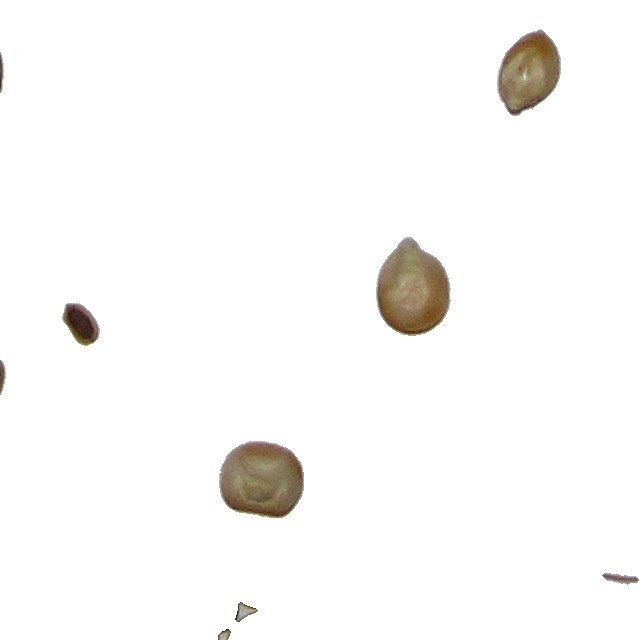dill: (61, 302, 101, 346), (601, 571, 640, 585), (232, 600, 255, 622), (1, 359, 9, 386), (1, 50, 5, 98)
mais: (375, 237, 451, 337), (217, 440, 304, 519), (499, 29, 561, 116)
